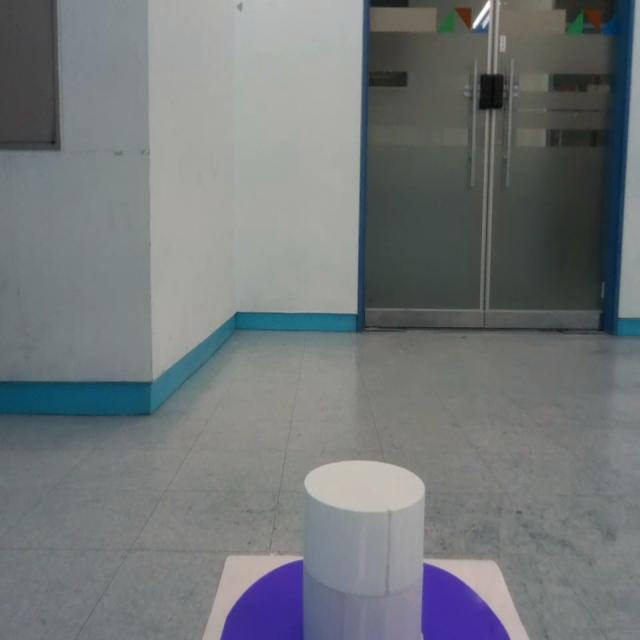cylinder: (300, 460, 426, 640)
